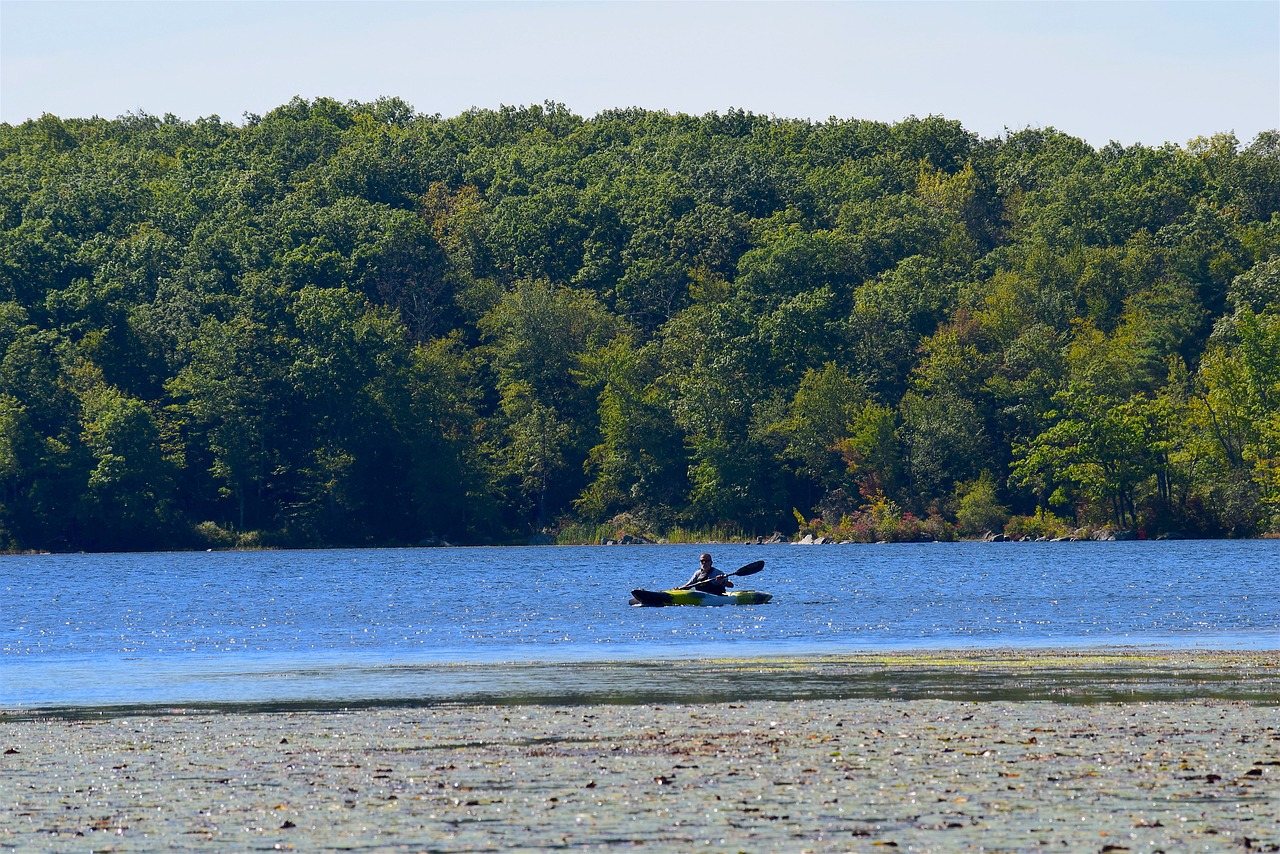kayak: (629, 587, 776, 609)
